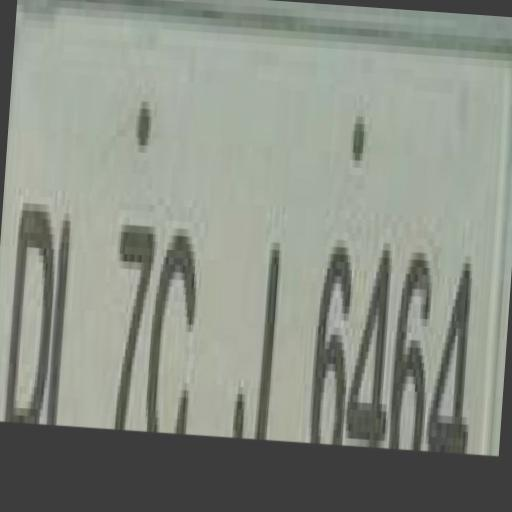number plate: (0, 18, 508, 483)
